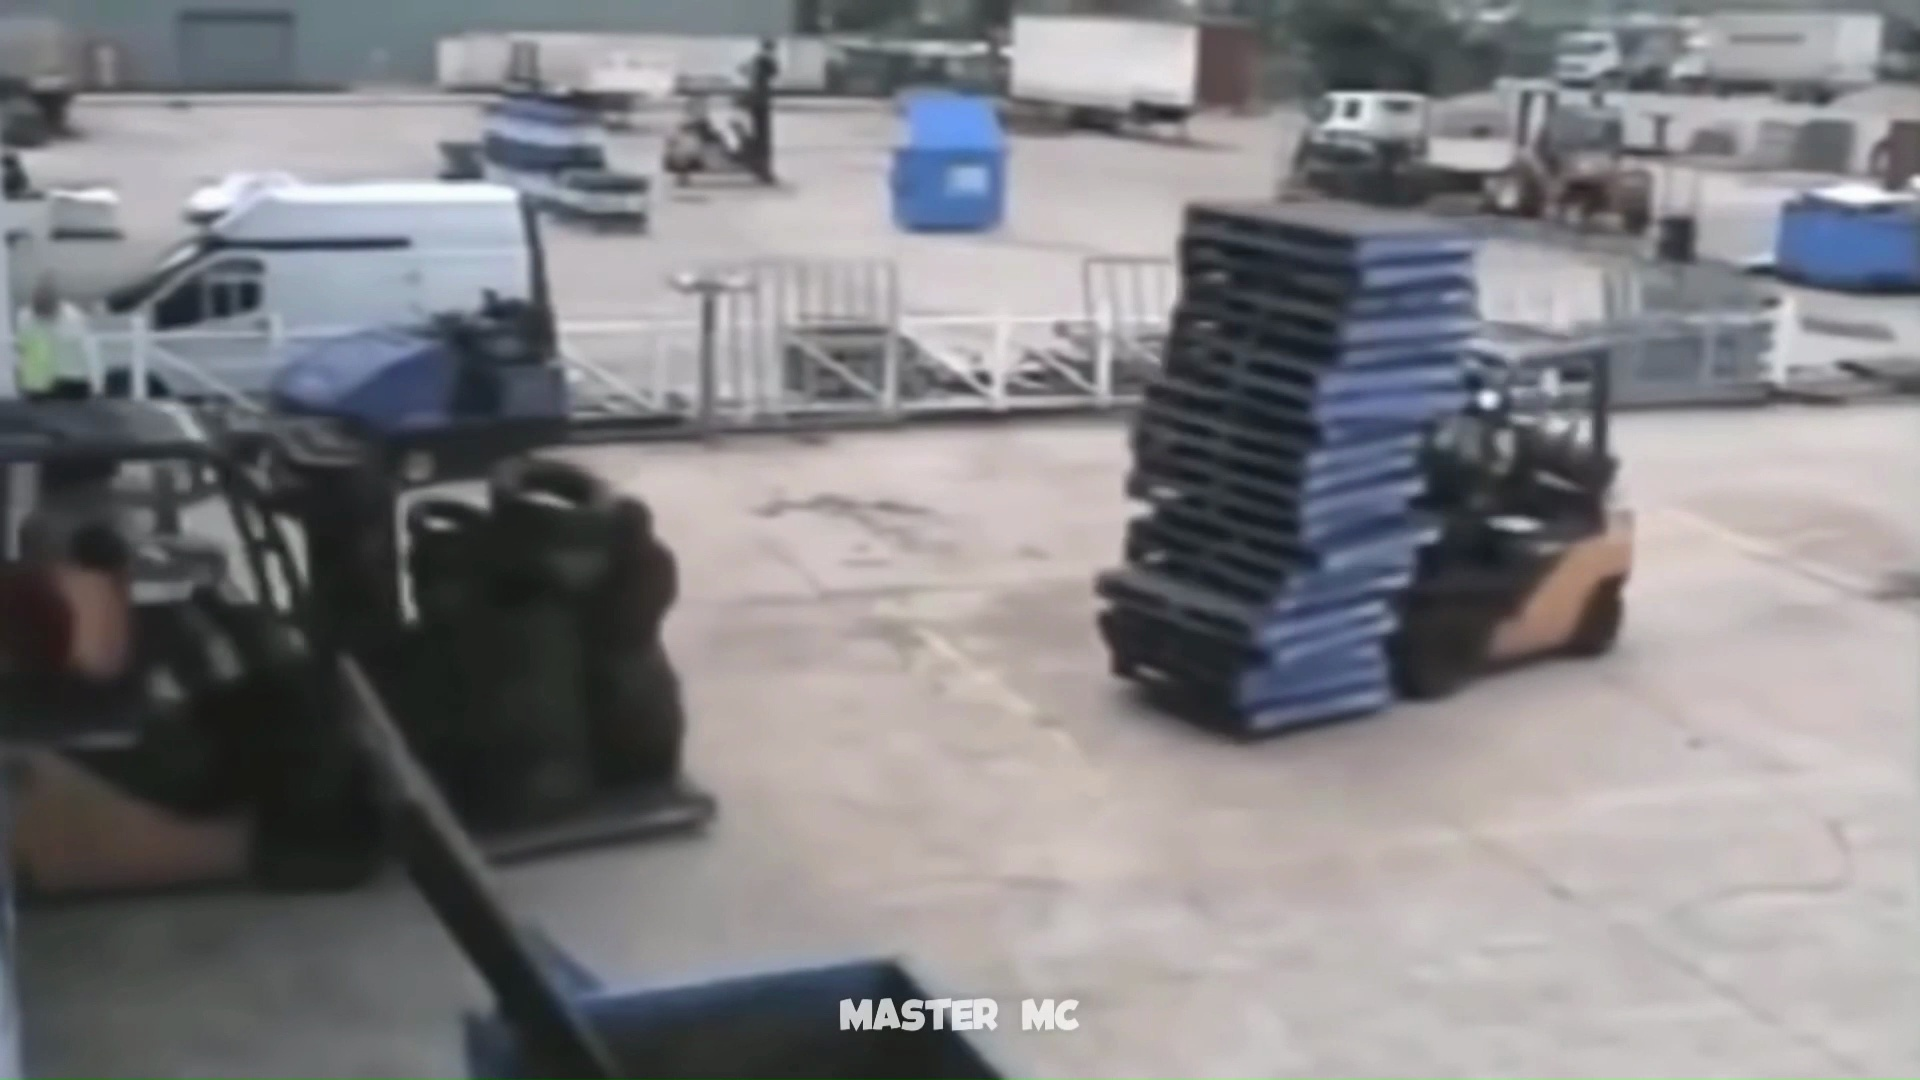forklift: (3, 396, 723, 882), (1087, 208, 1648, 740)
